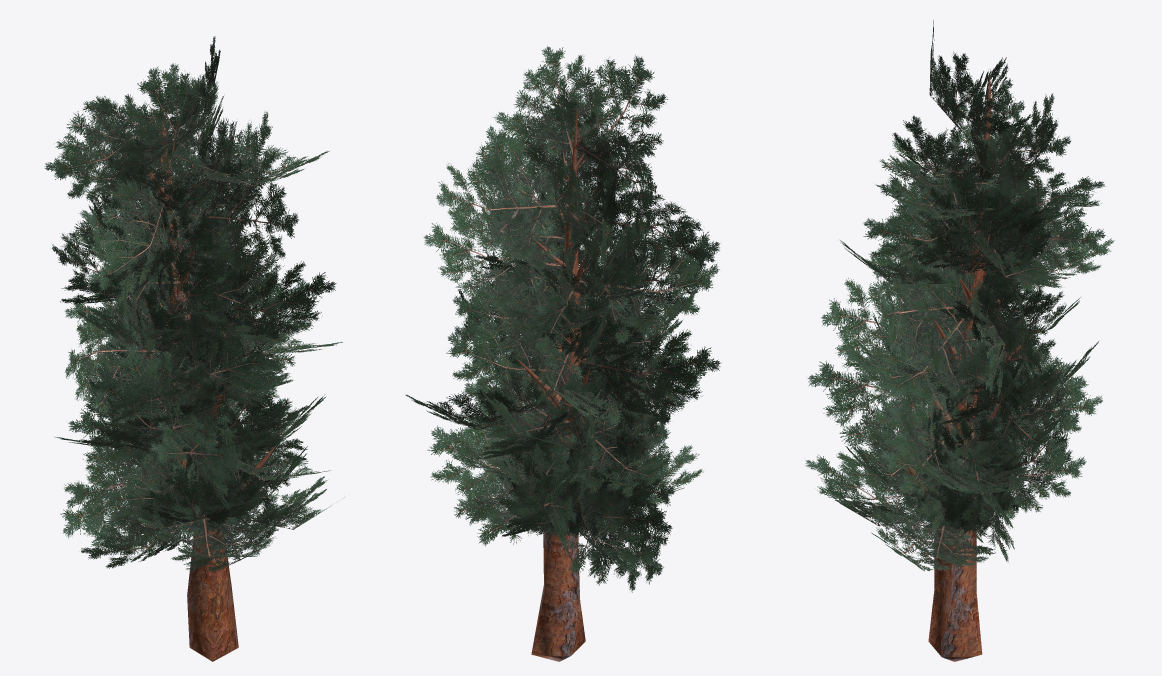
File: first_LOD10.dae
3 renders of one model, left to right at view 1: azimuth 30°, elevation 25°; view 2: azimuth 150°, elevation 25°; view 3: azimuth 270°, elevation 25°, orthographic.
Visible parts, largest first — view 1: leaf21d, branches23d; view 2: leaf21d, branches23d; view 3: leaf21d, branches23d.
Part boxes in pixels (x1,y1,x2,y2): leaf21d: (44, 36, 344, 573); branches23d: (133, 75, 276, 661); leaf21d: (405, 46, 721, 592); branches23d: (515, 103, 621, 661); leaf21d: (805, 20, 1114, 571); branches23d: (901, 69, 1034, 661).
Bounding box in the file's own units: 5.75 × 5.97 × 11.32.
2 materials, 2 textured.
